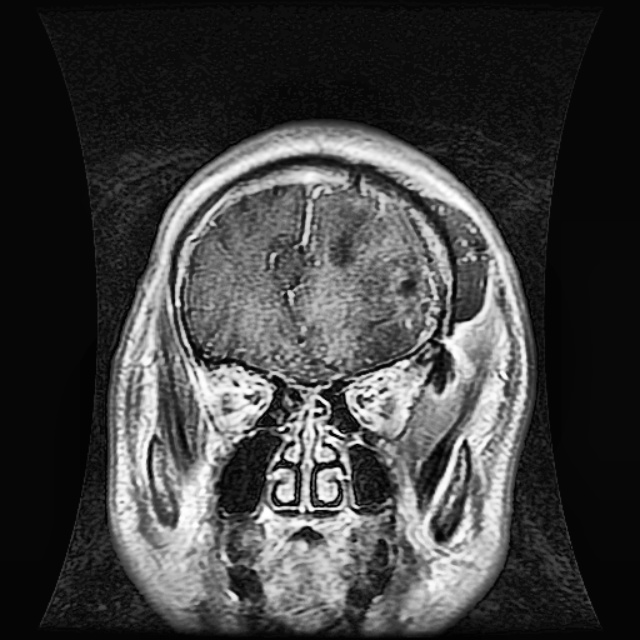Glioma: (385, 255, 435, 314)
